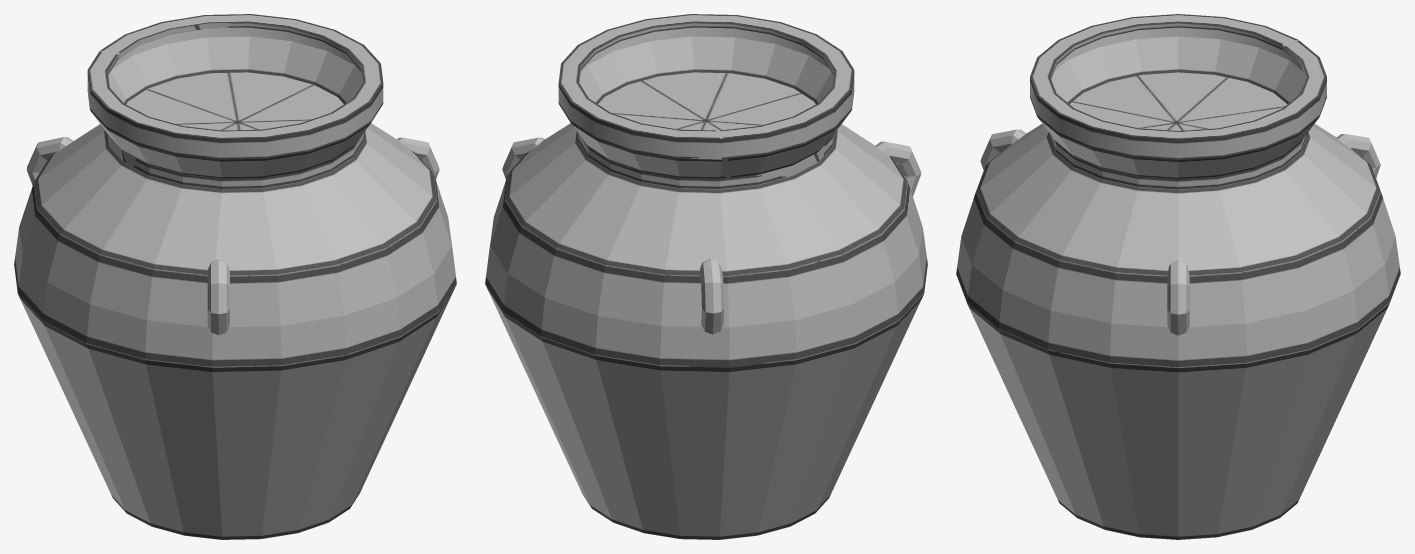
File: GeoSeparateWithOpacityTextureWithCamera.fbx
3 renders of one model, left to right at view 1: azimuth 30°, elevation 25°; view 2: azimuth 150°, elevation 25°; view 3: azimuth 270°, elevation 25°, orthographic.
Visible parts, largest first — view 1: polySurface3, polySurface4, polySurface1, polySurface5, polySurface6, polySurface8, polySurface9, polySurface7; view 2: polySurface3, polySurface4, polySurface1, polySurface5, polySurface6, polySurface9, polySurface8, polySurface7; view 3: polySurface3, polySurface4, polySurface1, polySurface5, polySurface6, polySurface7, polySurface9, polySurface8.
Boxes of the visible parts, x1,y1,x2,y2 form: polySurface3: (18,285,456,539); polySurface4: (14,175,456,367); polySurface1: (87,14,383,178); polySurface5: (34,123,436,275); polySurface6: (108,133,363,189); polySurface8: (207,259,229,335); polySurface9: (26,137,73,185); polySurface7: (397,137,439,179); polySurface3: (485,285,923,539); polySurface4: (485,175,927,367); polySurface1: (558,14,854,178); polySurface5: (505,123,907,276); polySurface6: (578,133,833,189); polySurface9: (700,259,723,334); polySurface8: (875,141,921,196); polySurface7: (502,137,544,179); polySurface3: (967,303,1389,539); polySurface4: (956,192,1400,367); polySurface1: (1030,14,1326,179); polySurface5: (976,124,1380,275); polySurface6: (1049,134,1307,189); polySurface7: (1167,260,1189,335); polySurface9: (1336,134,1380,178); polySurface8: (980,129,1026,170).
Size of the model in its own units: 12.31 by 12.21 by 11.99.
1 material, 1 textured.
